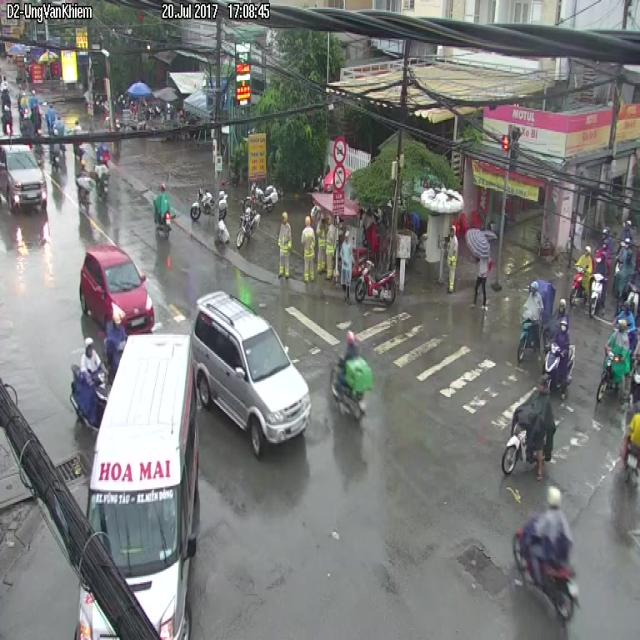car: (354, 259, 397, 305)
traffic-light: (192, 290, 311, 456), (79, 247, 155, 332), (0, 141, 47, 212)
